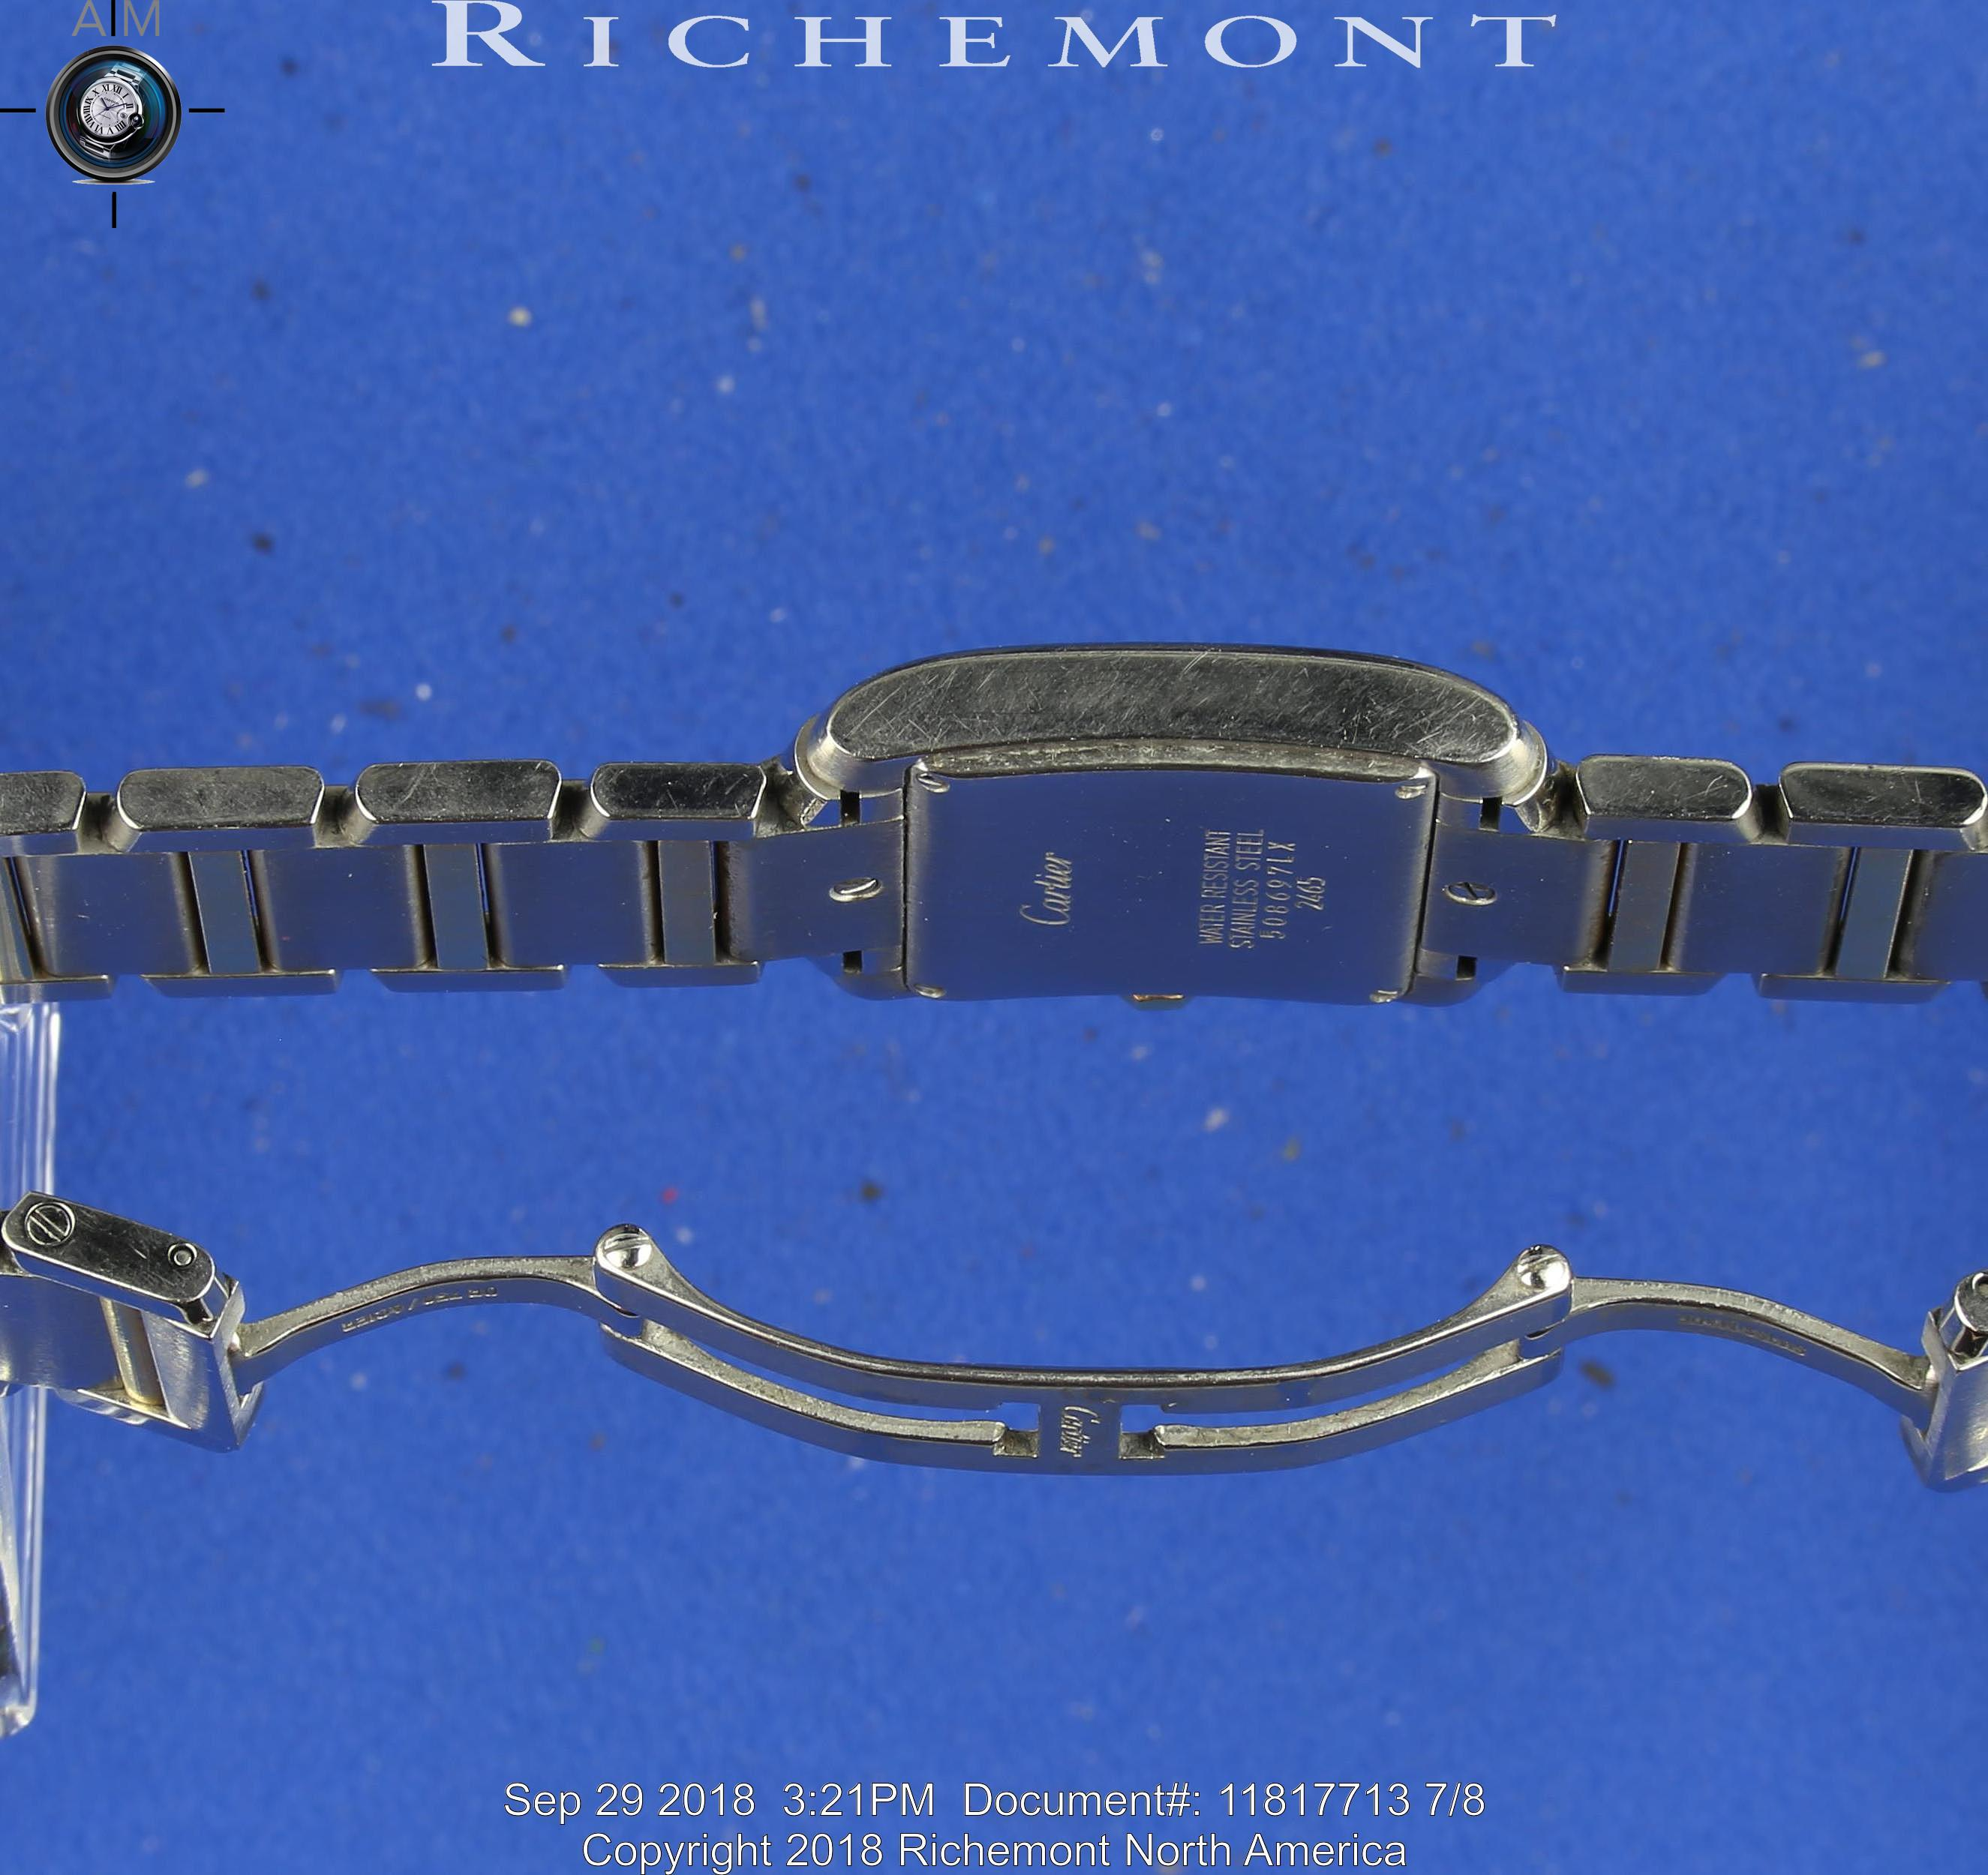watchback: (832, 700, 1456, 1017)
